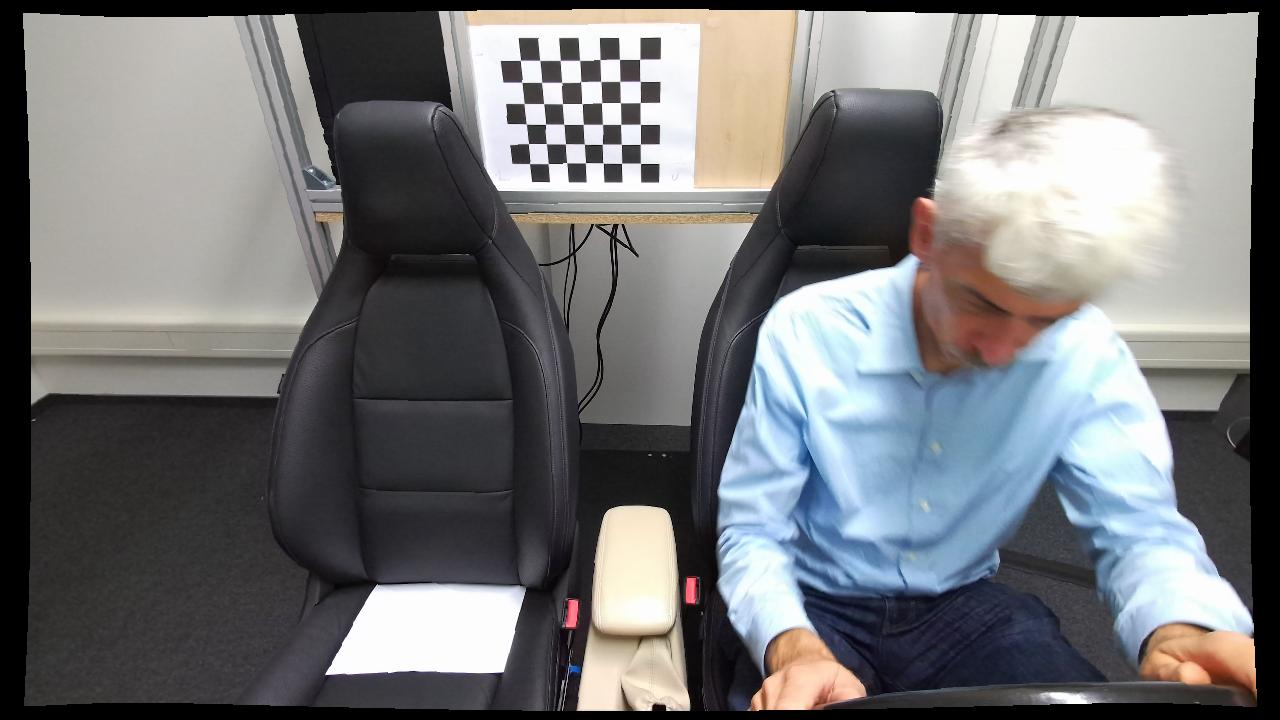Distracted: (703, 97, 1232, 718)
